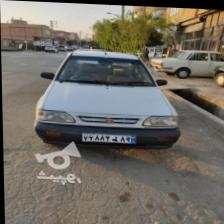plate: (83, 132, 137, 142)
